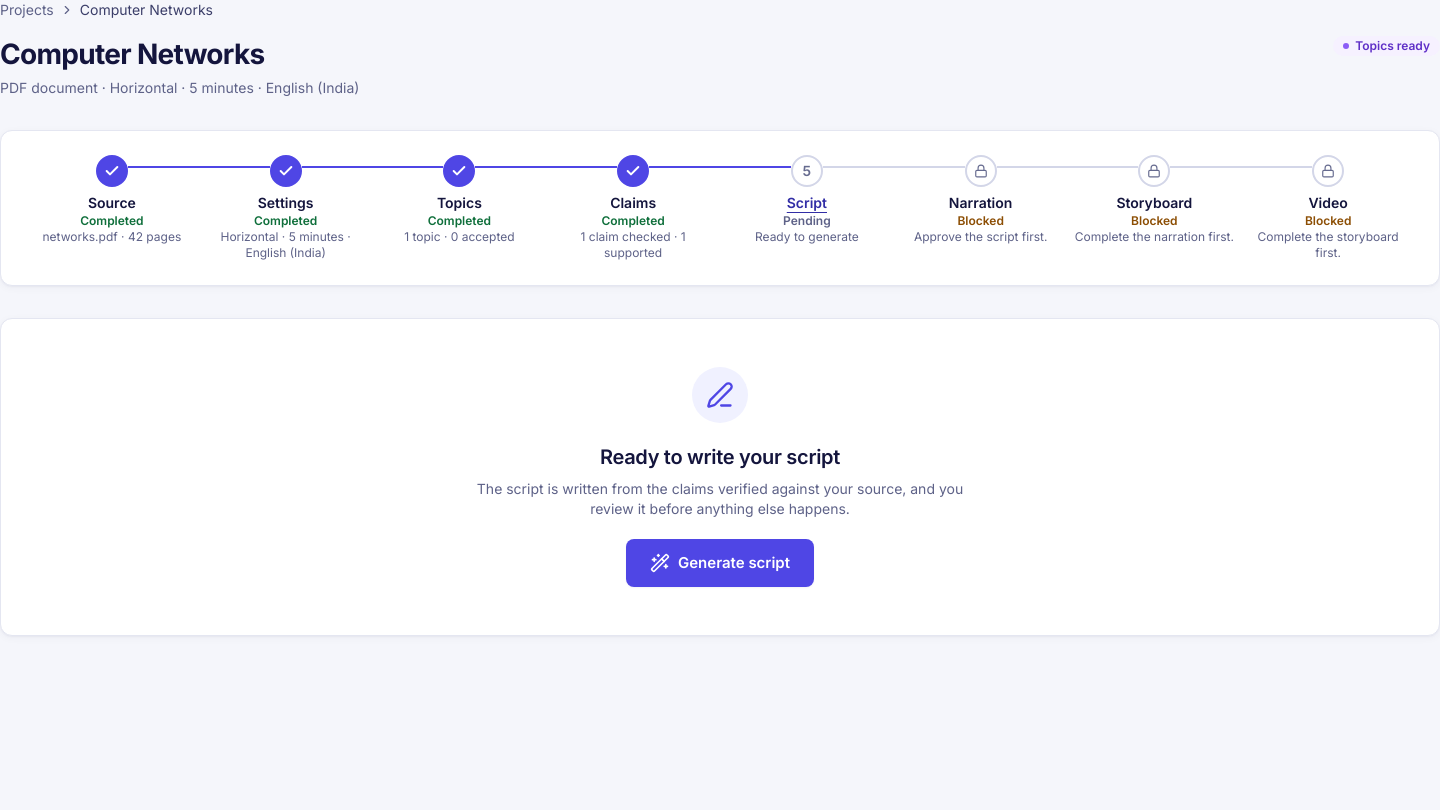
Test case: Script step › explains too little evidence for the length, with the figures and both real remedies
Click the button "Generate script".
click(720, 563)  # box [626, 539, 814, 587]
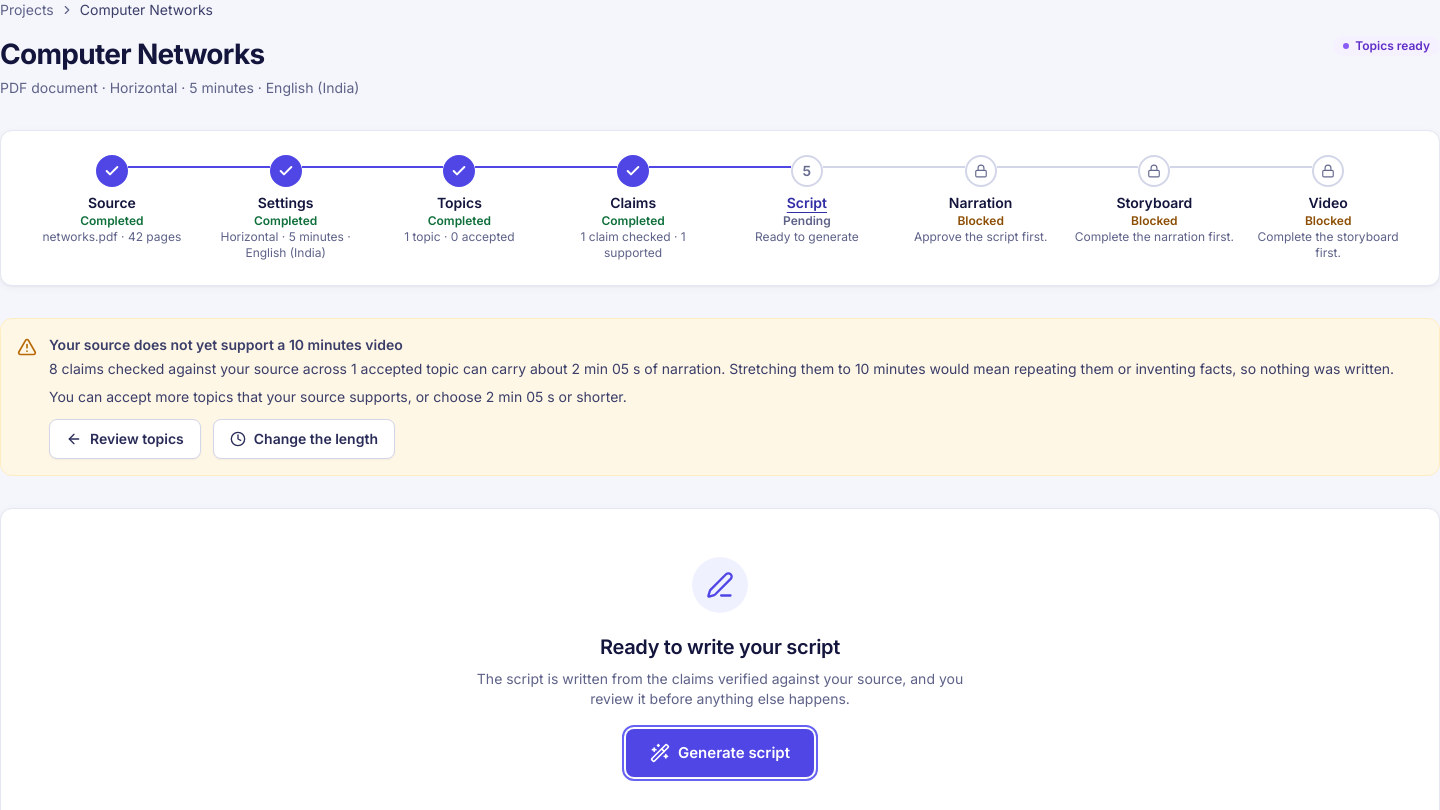
Now the text "Your source does not yet support a 10 minutes video" is shown, box [49, 336, 403, 353]
Now the text "about 2 min 05 s of narration" is shown, box [49, 359, 1423, 379]
Now the text "choose 2 min 05 s or shorter" is shown, box [49, 388, 627, 405]
